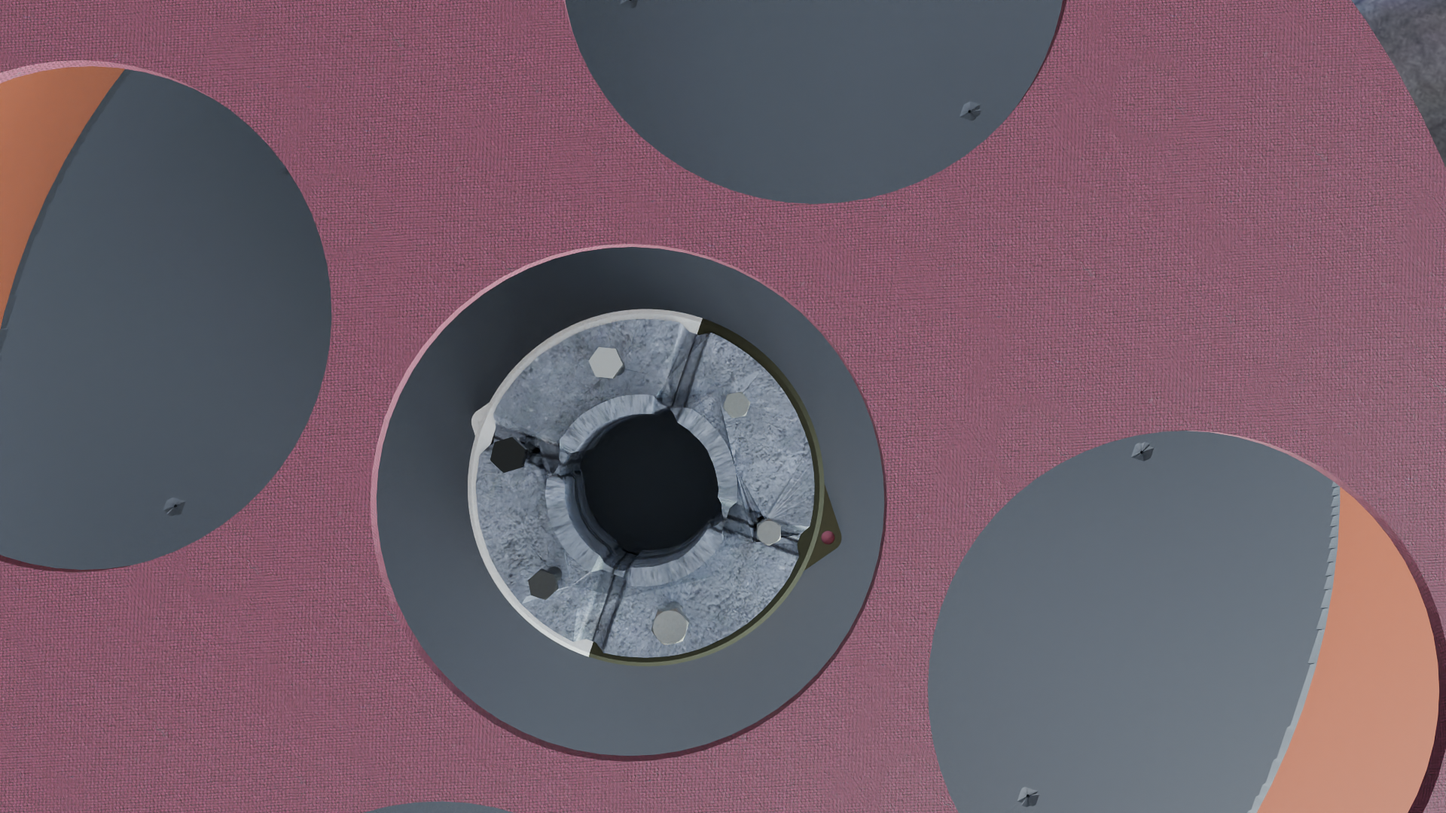bolt: (651, 608, 689, 645), (490, 437, 526, 473), (589, 347, 623, 379), (528, 570, 557, 600), (723, 391, 751, 419), (757, 519, 781, 546)
